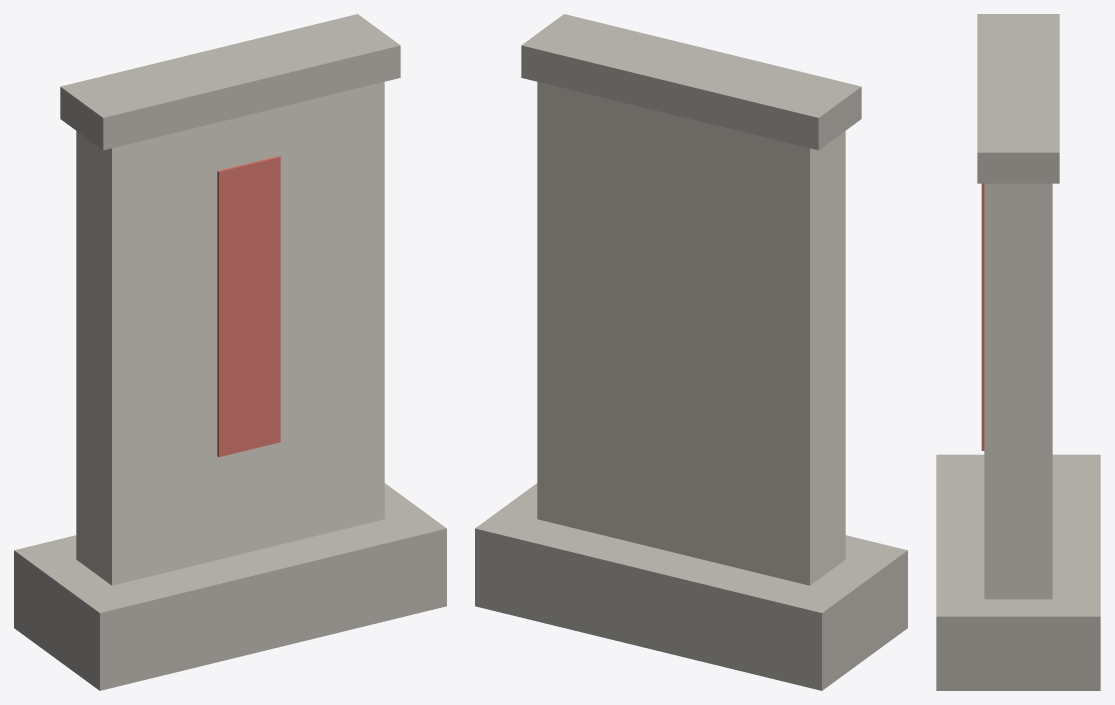
The picture shows the model from 3 angles, left to right: view 1: azimuth 30°, elevation 25°; view 2: azimuth 150°, elevation 25°; view 3: azimuth 270°, elevation 25°; orthographic projection. The views are drawn at different scales.
Parts seen in each view (by area): view 1: WB_stele; view 2: WB_stele; view 3: WB_stele.
Part boxes in pixels (x1,y1,x2,y2): WB_stele: (14, 14, 446, 690); WB_stele: (475, 14, 907, 690); WB_stele: (936, 14, 1100, 690).
Size of the model in its own units: 2.8 by 4.25 by 1.2.
